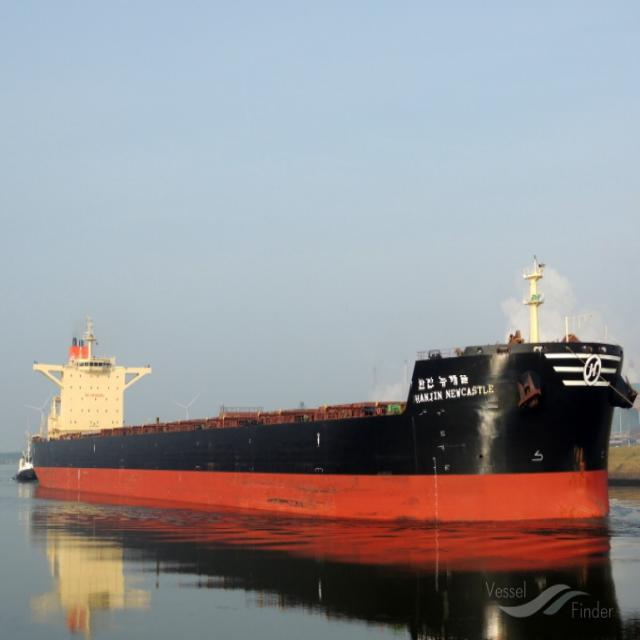OCR: (410, 375, 498, 414)
